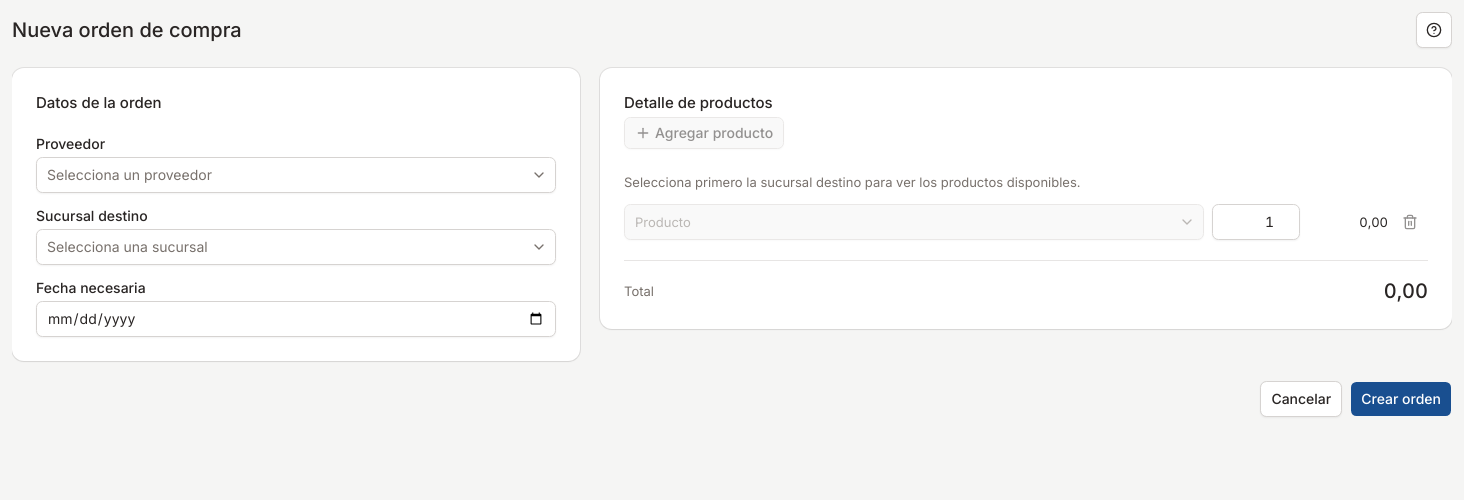
Test: formulario de nueva orden › no deja enviar mientras falten datos y muestra el mensaje de cada campo
This screenshot has width=1464, height=500.
Expected: the dropdown labelled "proveedor" is enabled, [36,157,556,193]
Click the button "Crear orden": x=1401, y=399 [1350,381,1452,417]
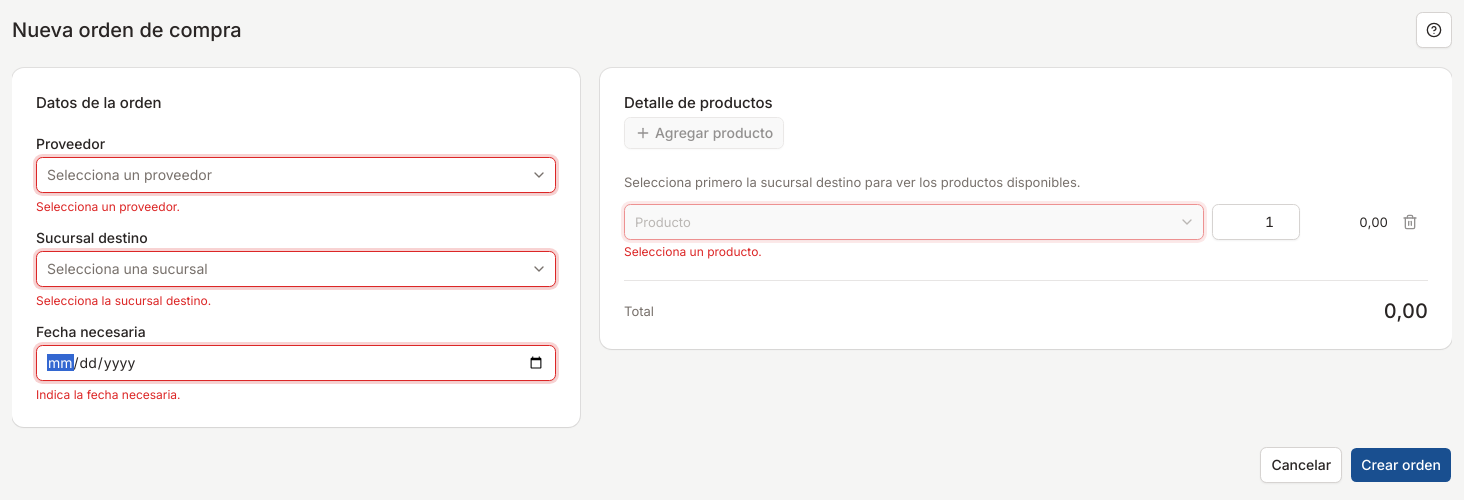
Expected: the text "Selecciona un proveedor." is shown, [36,199,180,214]
Expected: the text "Selecciona la sucursal destino." is shown, [36,293,211,308]
Expected: the text "Indica la fecha necesaria." is shown, [36,387,181,402]
